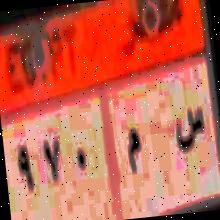0: (69, 142, 93, 184)
7: (38, 131, 68, 193)
9: (15, 134, 39, 203)
meem: (120, 110, 149, 187)
seen: (169, 96, 208, 162)
